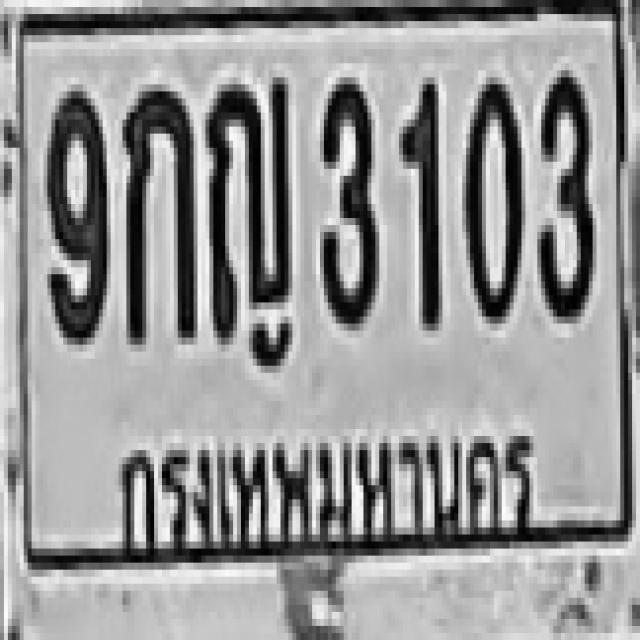0: (462, 70, 522, 316)
1: (399, 70, 435, 324)
10GorGai: (122, 81, 194, 341)
22YorYing: (205, 74, 288, 334)
3: (316, 70, 375, 324), (533, 70, 593, 316)
9: (44, 85, 106, 338)
Bangkok: (114, 422, 540, 568)
